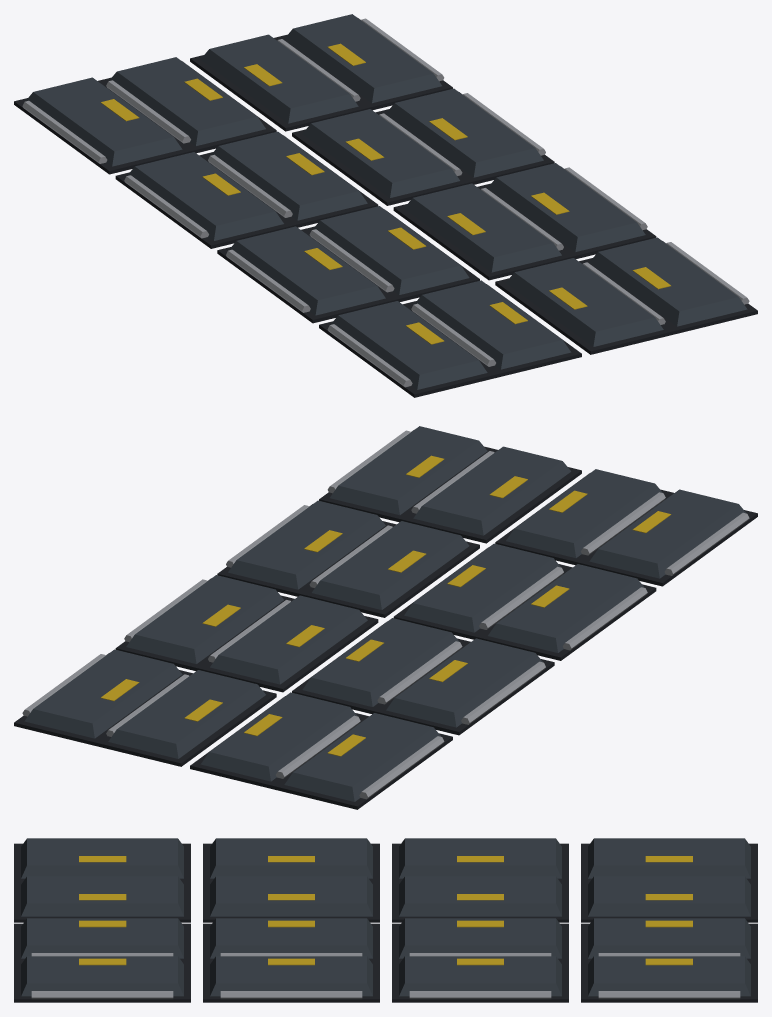
Rendered from vpu16_hatch.obj.
3 renders of one model, top to bottom at view 1: azimuth 30°, elevation 25°; view 2: azimuth 150°, elevation 25°; view 3: azimuth 270°, elevation 25°, orthographic. The views are drawn at different scales.
Parts seen in each view (by area): view 1: vpu16_hatch; view 2: vpu16_hatch; view 3: vpu16_hatch.
Boxes of the visible parts, x1,y1,x2,y2 form: vpu16_hatch: (14,14,757,397); vpu16_hatch: (14,426,757,809); vpu16_hatch: (14,838,757,1002).
Bounding box in the file's own units: 3.14 × 0.135 × 6.3.
